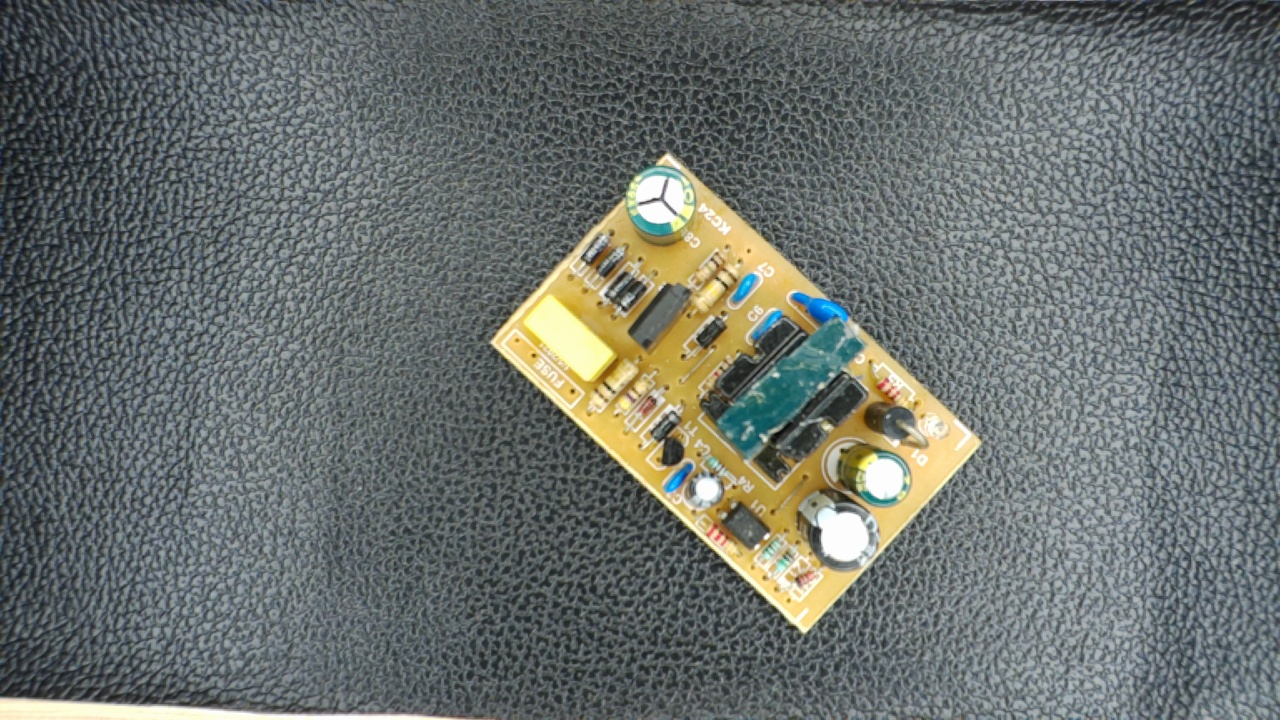hv_capacitor: (621, 167, 699, 246)
mov: (788, 293, 855, 333)
optocoupler: (719, 501, 773, 554)
